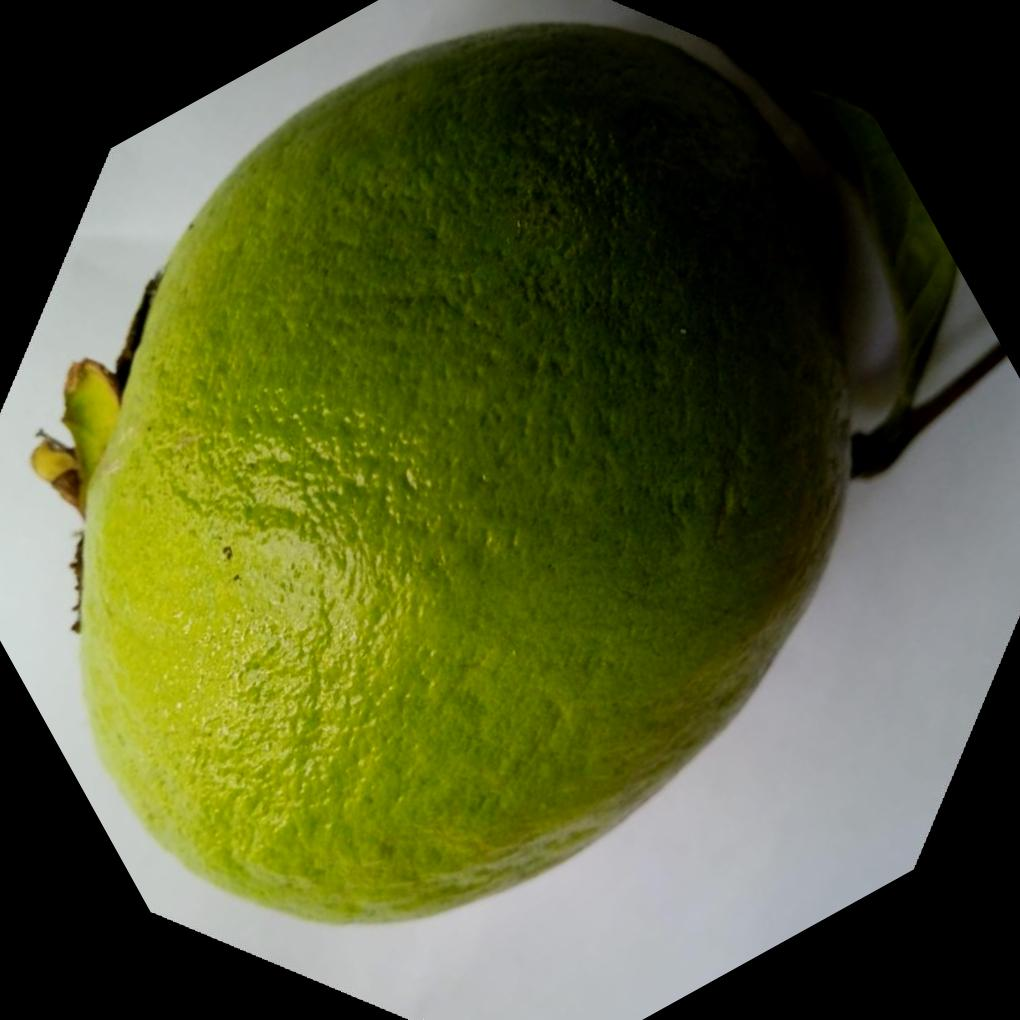FreshGuava: (50, 16, 937, 933)
